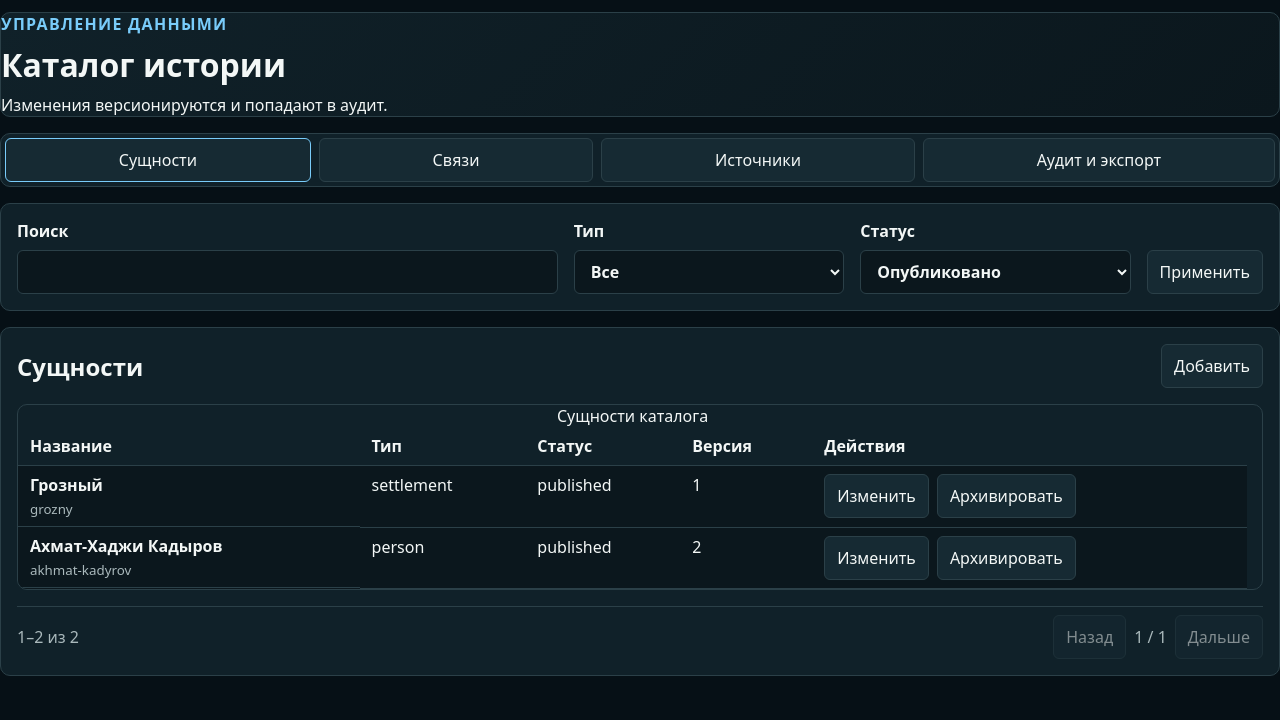
it: preserves unsaved entity input when expected version conflicts
Step 1. Click the button with aria-label "Изменить Грозный" → (877,496), box [824,474,929,518]
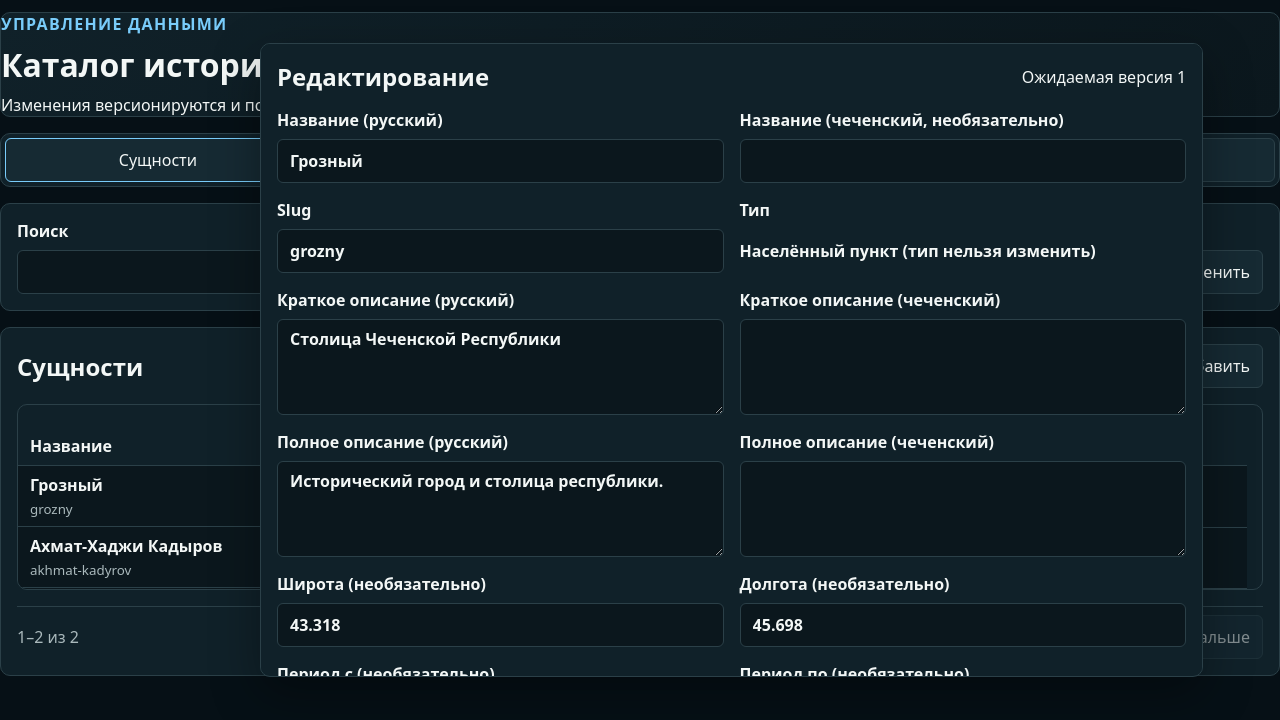
Step 2. Replace the text in the field labelled "Название (русский)" with "Моя несохранённая версия" → (500,161), box [277,139,724,183]
(page scrolled)
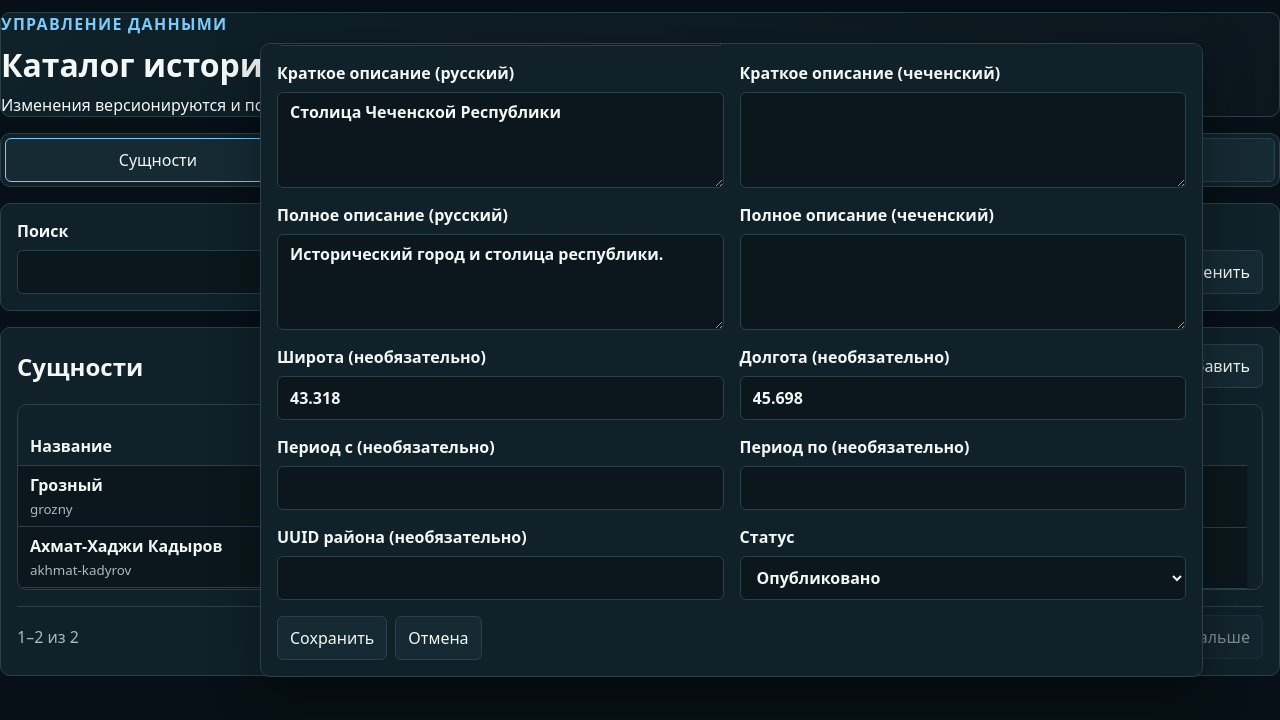
Step 3. Click the button "Сохранить" → (332,638), box [277,616,387,660]
(page scrolled)
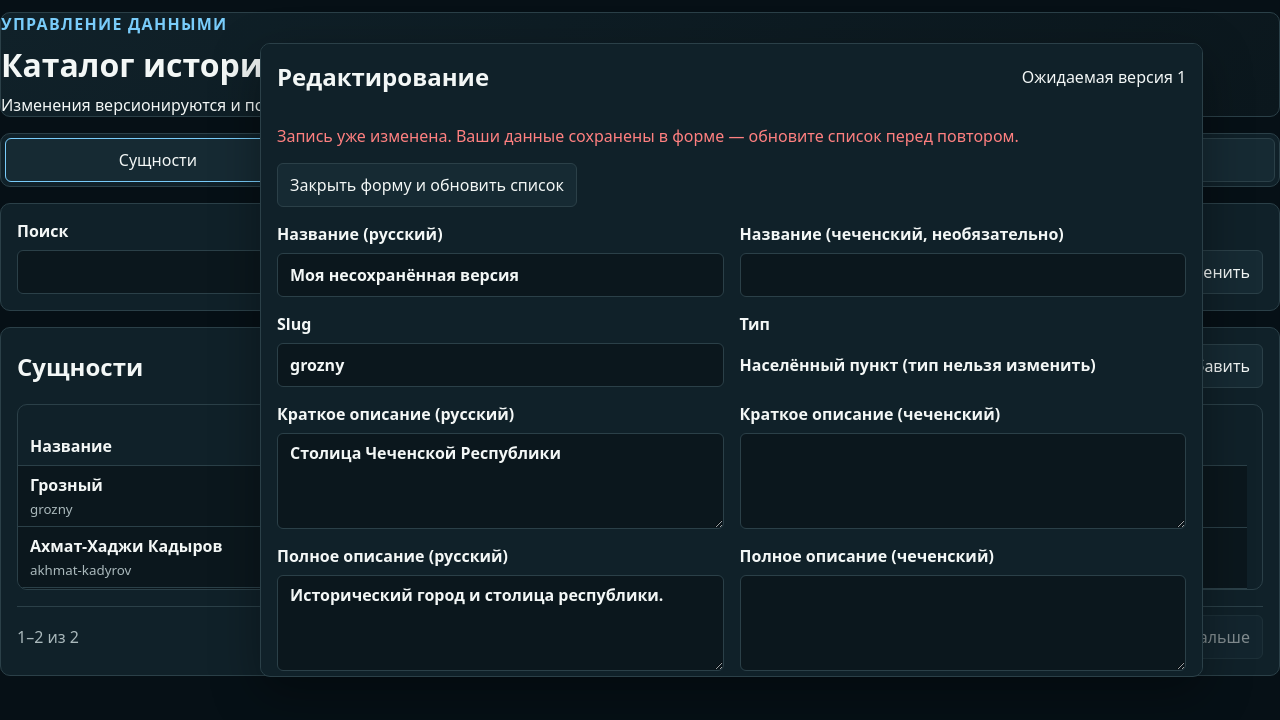
Result: the message shows "Ваши данные сохранены в форме" at [277,125,1019,147]
